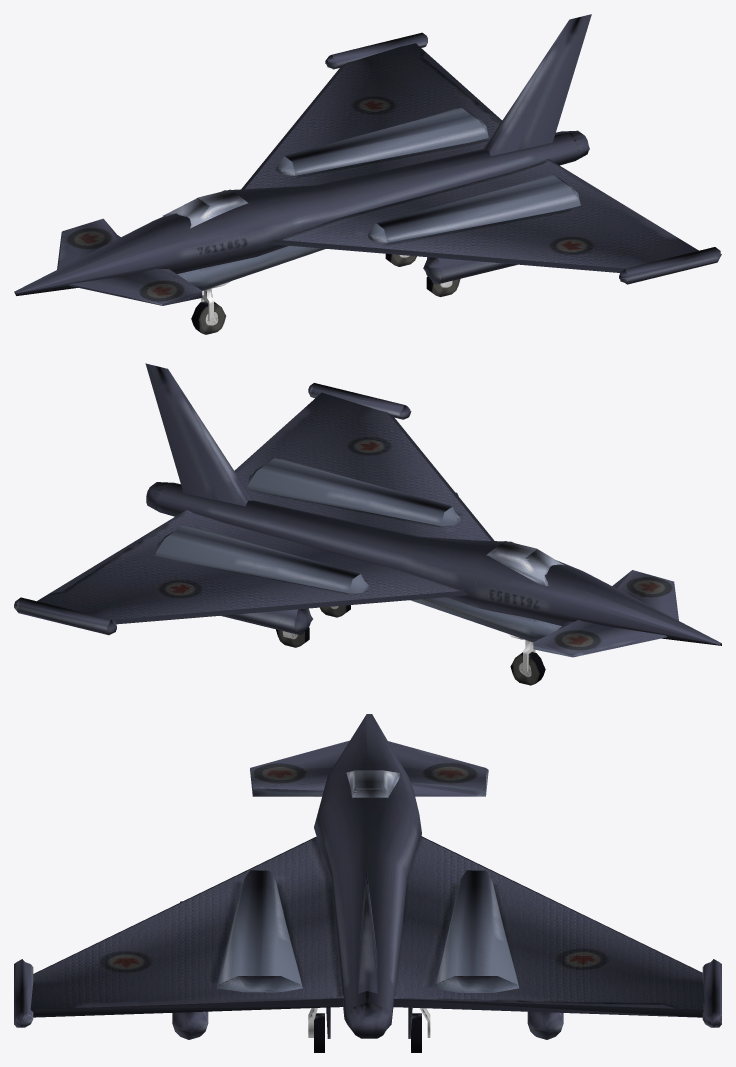
File: Fighter.obj
3 views of the same model, one above another, from view 1: azimuth 30°, elevation 25°; view 2: azimuth 150°, elevation 25°; view 3: azimuth 270°, elevation 25° (orthographic). The views are drawn at different scales.
Size of the model in its own units: 179 by 66.54 by 161.
